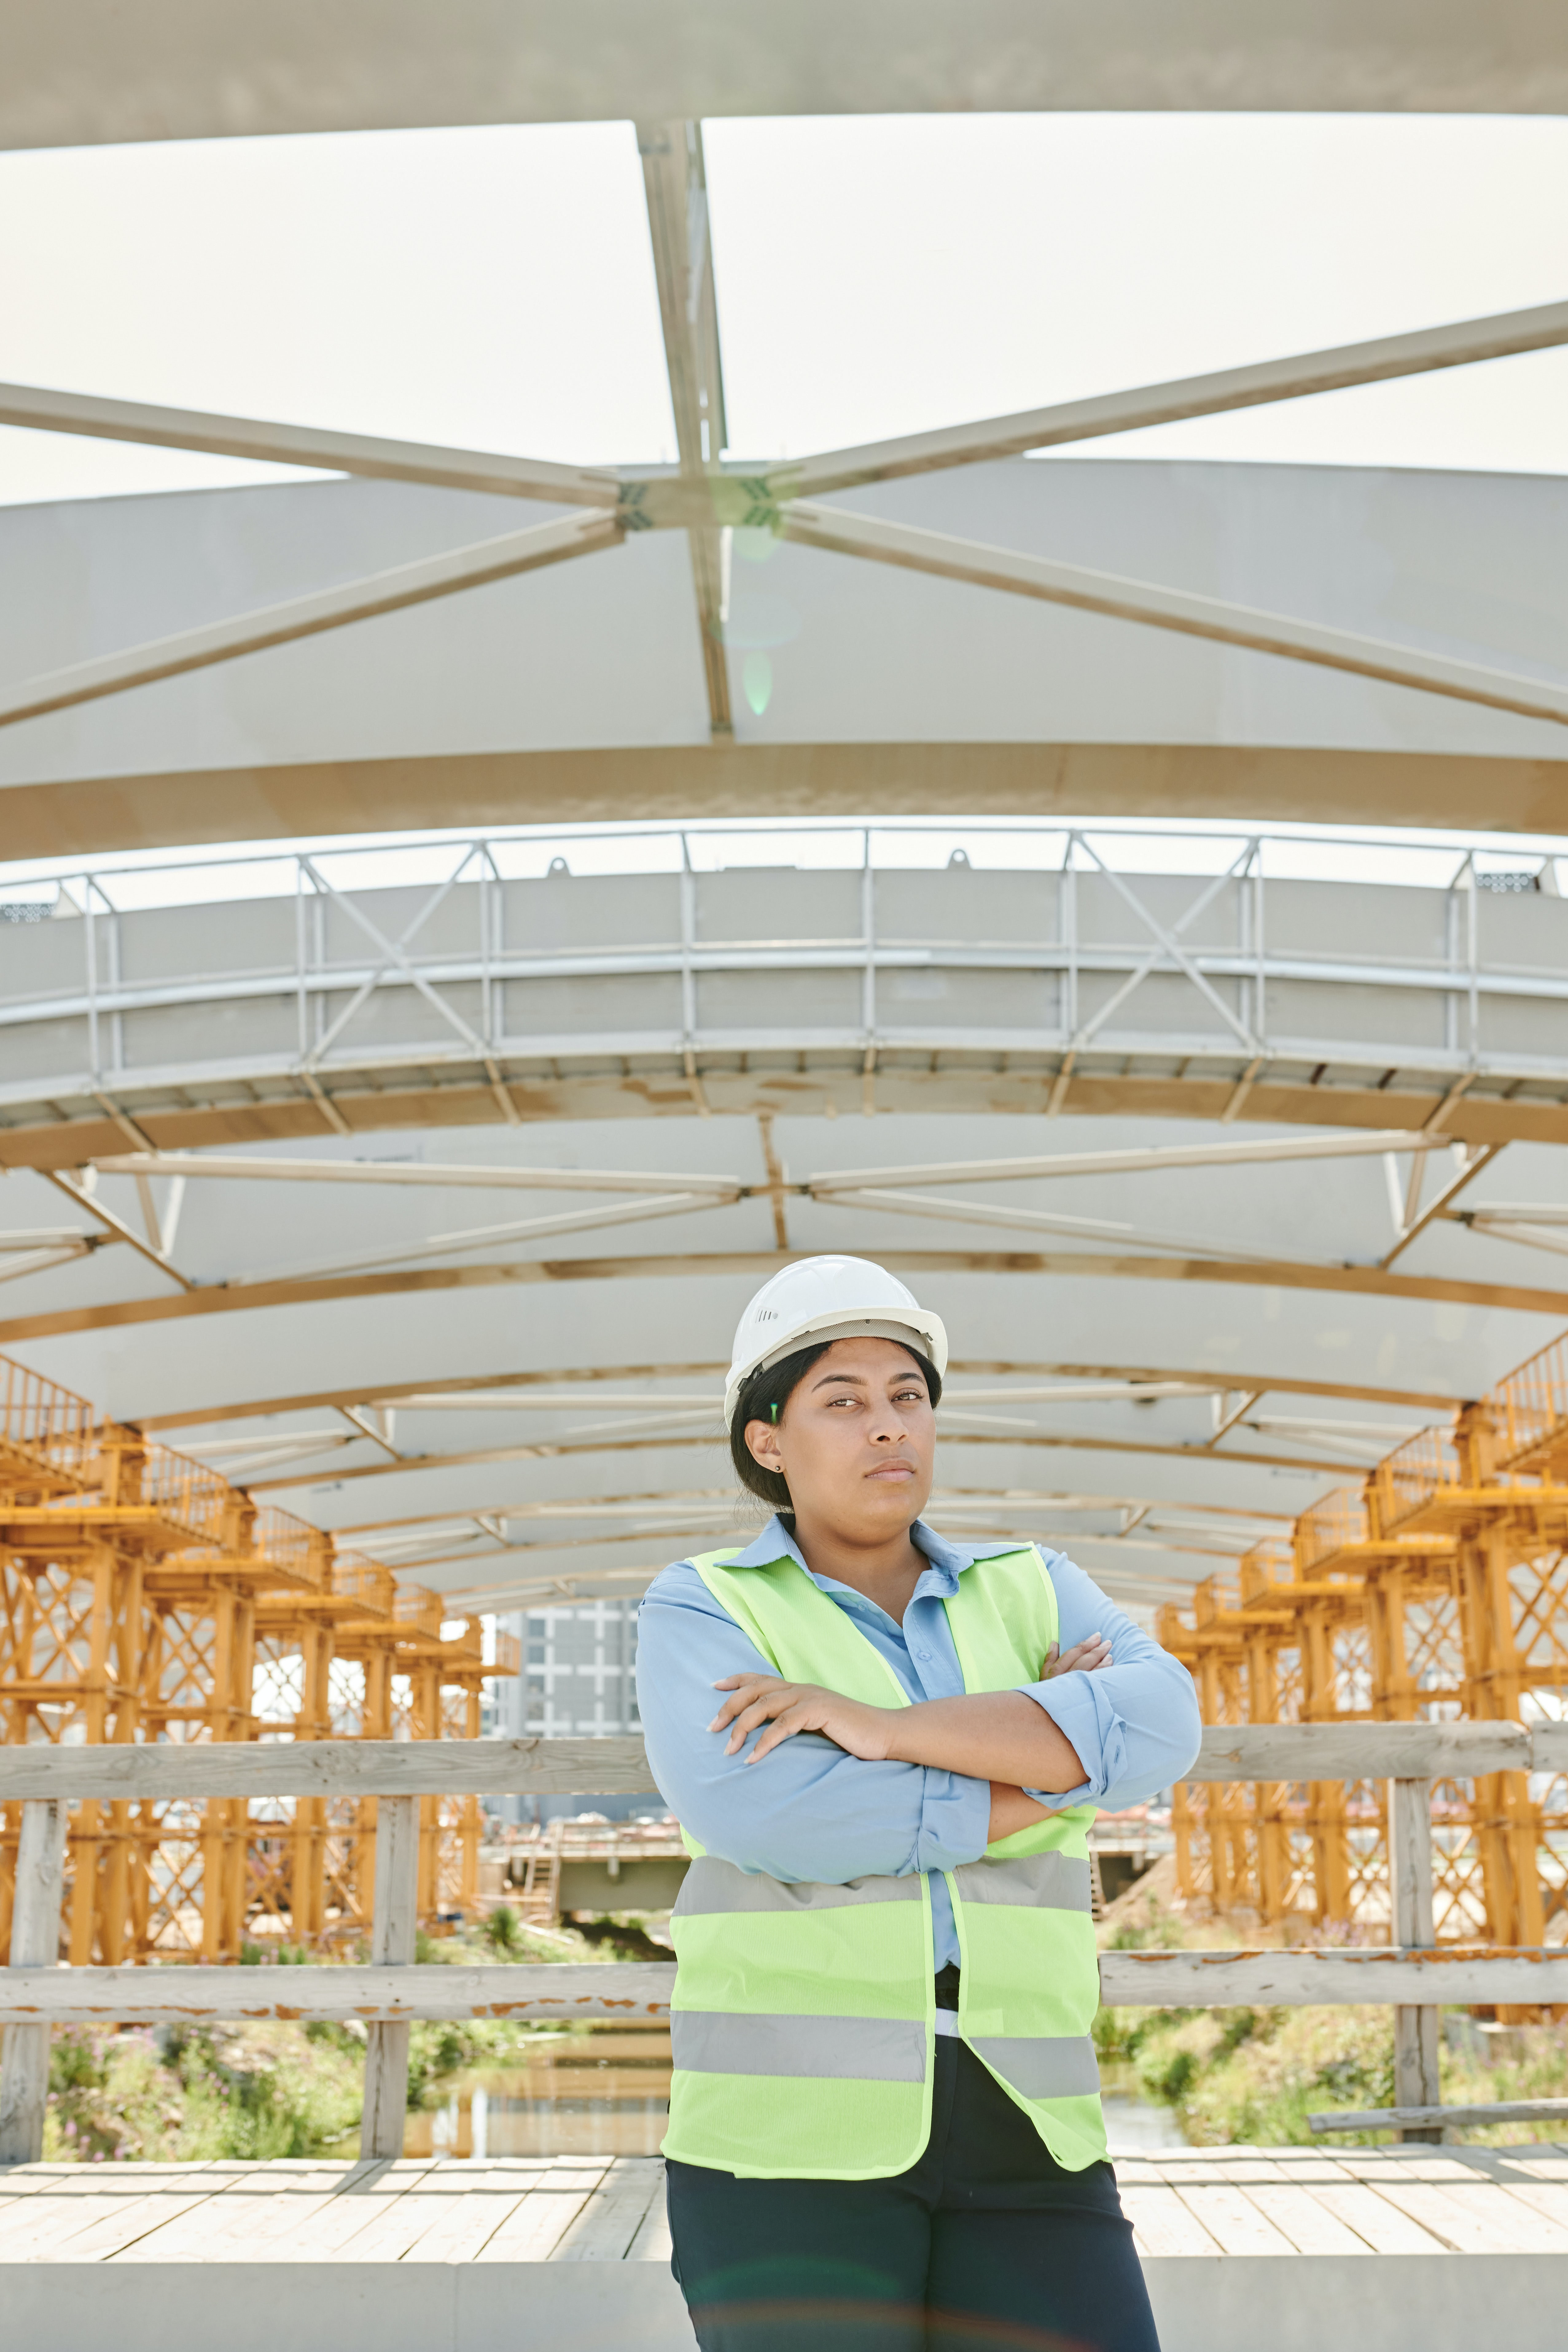Helmet: (693, 1216, 992, 1559)
Reflective vest: (653, 1531, 1129, 2207)
